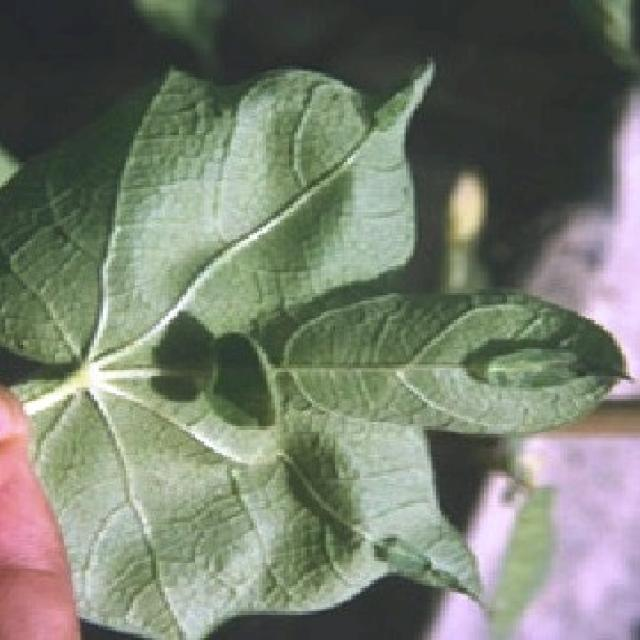Leaf Curl Virus: (95, 189, 551, 505)
